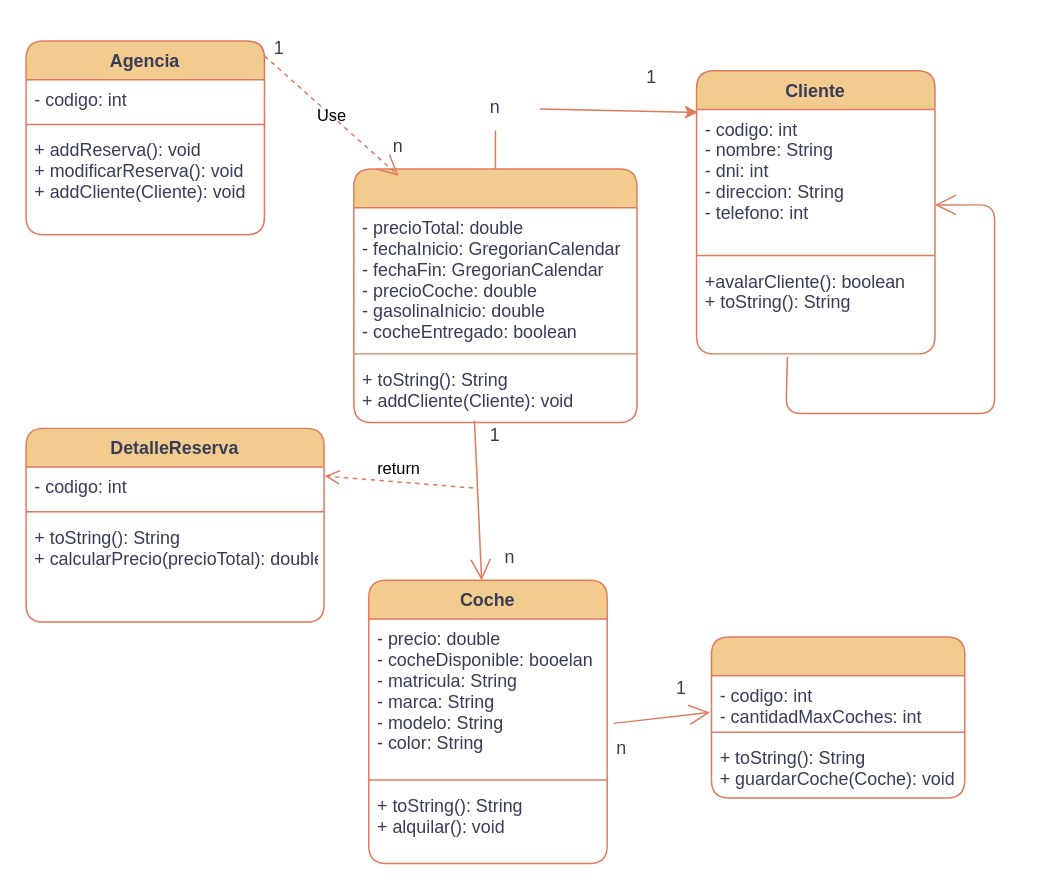
Some shapes in this 1042 by 893 pixel diagram are drawn without their labels. The box of each missing label's shape, as (x1, y1, x2, y2) in pixels:
Garaje: (710, 635, 965, 798)
Reserva: (352, 168, 637, 422)
